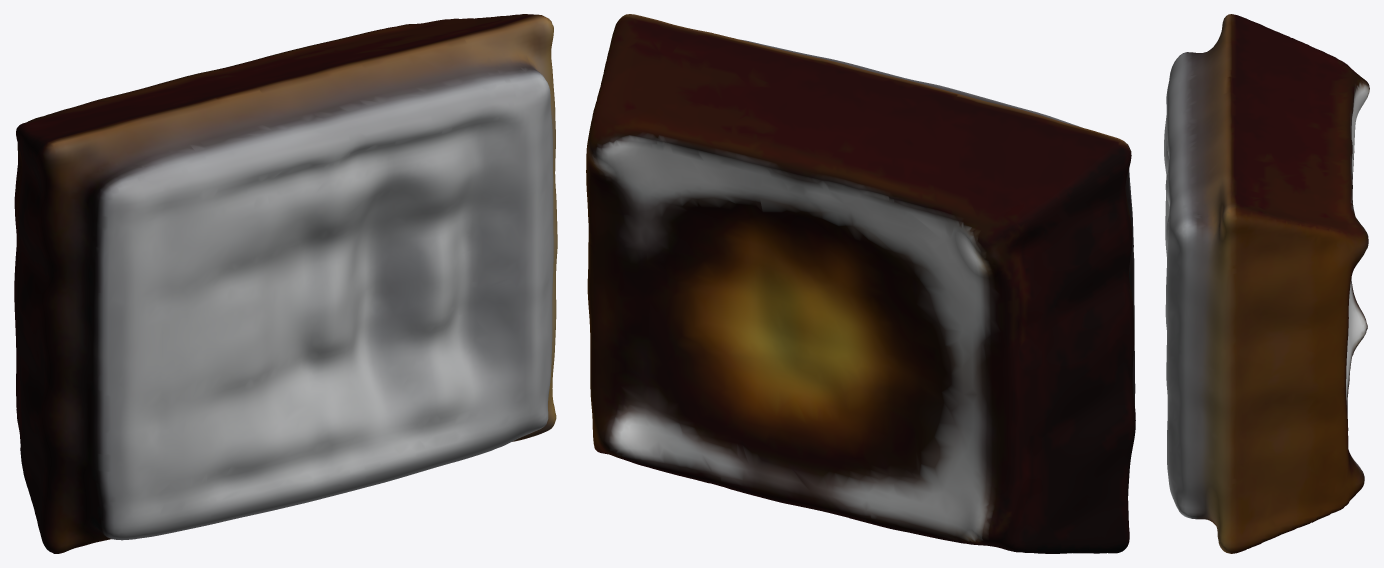
The model's file is soap.glb.
3 renders of one model, left to right at view 1: azimuth 30°, elevation 25°; view 2: azimuth 150°, elevation 25°; view 3: azimuth 270°, elevation 25°, orthographic. The views are drawn at different scales.
Size of the model in its own units: 0.9995 by 0.7784 by 0.4171.
